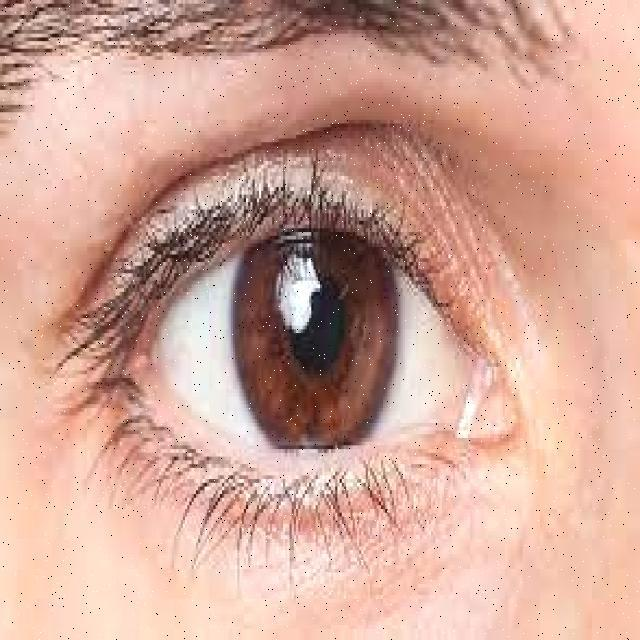Normal: (43, 116, 550, 588)
